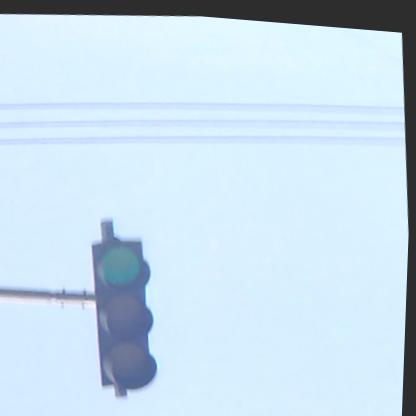green: (90, 231, 166, 392)
